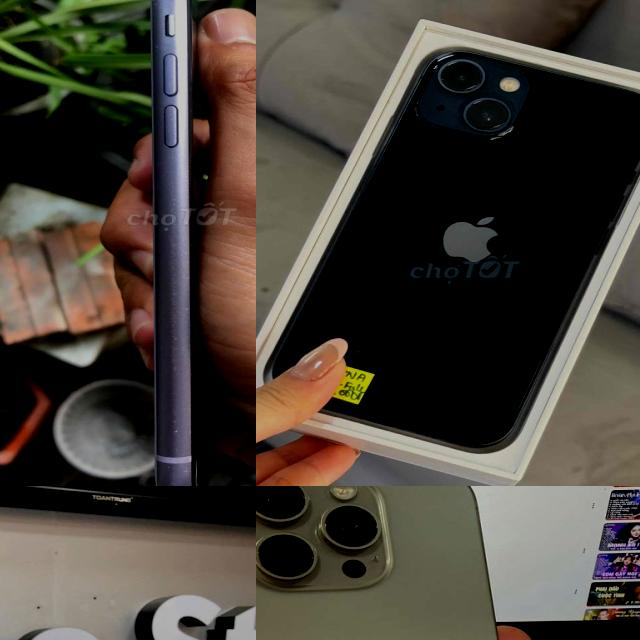gen_11: (130, 0, 224, 486)
gen_12_13: (263, 49, 640, 450)
gen_16: (256, 486, 537, 640)
scratch: (154, 162, 192, 486), (150, 0, 192, 78), (346, 338, 404, 364)
